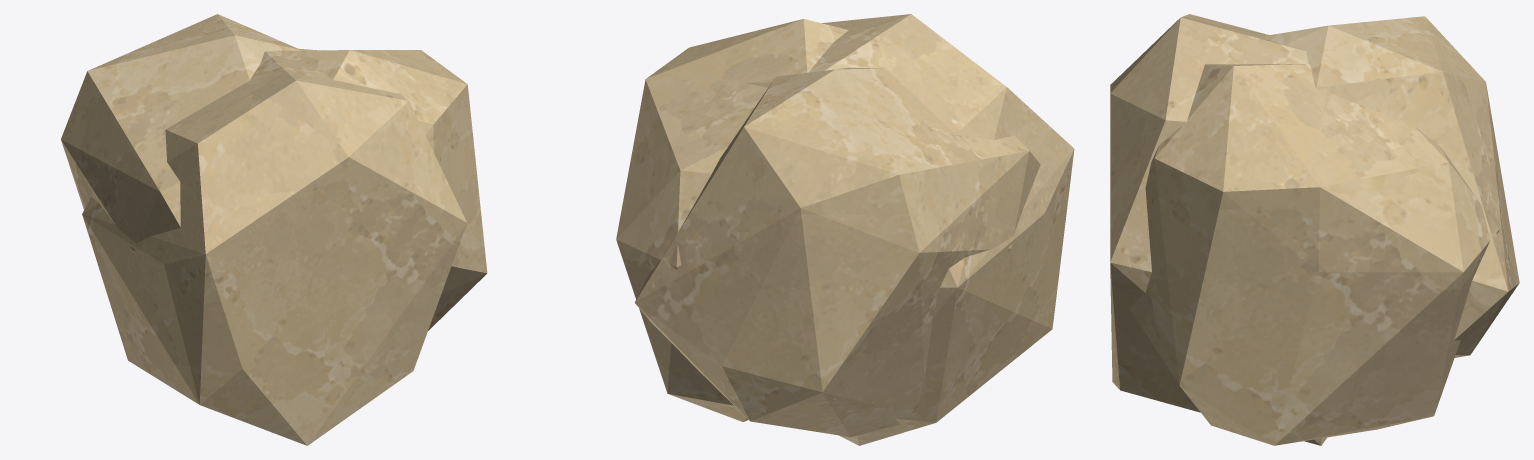
The model's file is ground_bottom_square_interior_10.glb.
3 views of the same model, side by side, from view 1: azimuth 30°, elevation 25°; view 2: azimuth 150°, elevation 25°; view 3: azimuth 270°, elevation 25° (orthographic). The views are drawn at different scales.
Visible parts, largest first — view 1: GroundBottomSquareInterior10_Body; view 2: GroundBottomSquareInterior10_Body; view 3: GroundBottomSquareInterior10_Body.
Boxes of the visible parts, left/top/right/bottom form: GroundBottomSquareInterior10_Body: left=61, top=14, right=487, bottom=445; GroundBottomSquareInterior10_Body: left=616, top=14, right=1074, bottom=445; GroundBottomSquareInterior10_Body: left=1110, top=14, right=1519, bottom=445.
Bounding box in the file's own units: 1 × 1.11 × 1.
1 material, 1 textured.
